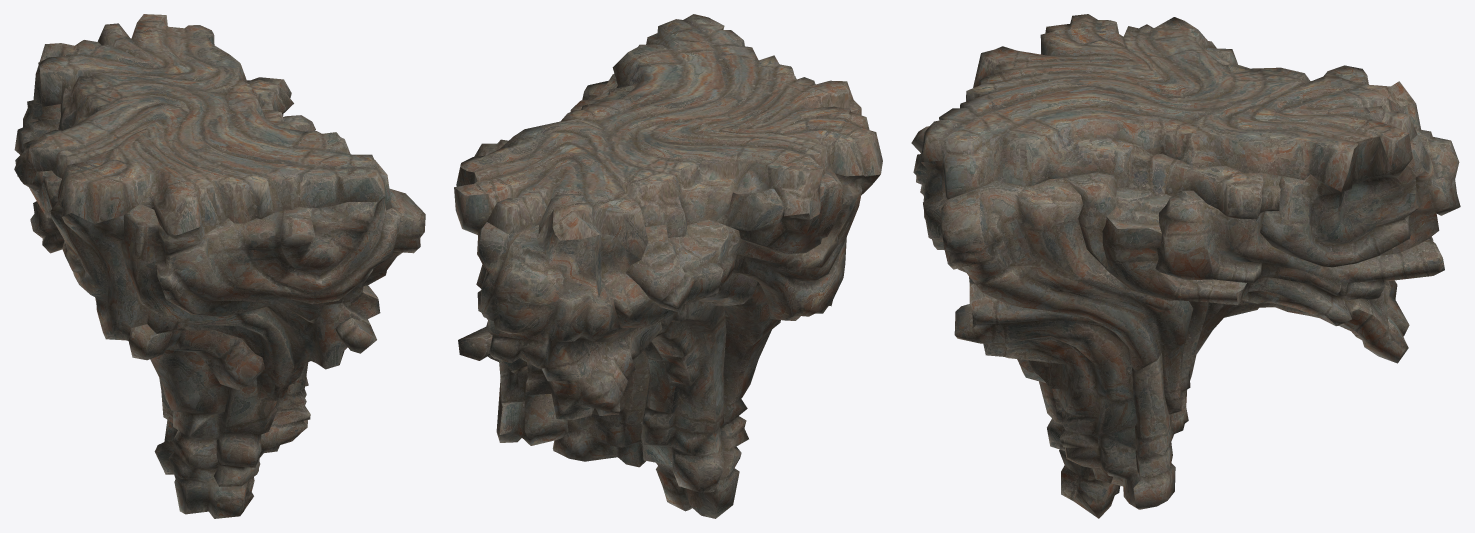
Rendered from bg_rad_kamen_rockfloor01_sm.obj.
3 renders of one model, left to right at view 1: azimuth 30°, elevation 25°; view 2: azimuth 150°, elevation 25°; view 3: azimuth 270°, elevation 25°, orthographic. The views are drawn at different scales.
Parts seen in each view (by area): view 1: bg_rad_kamen_rockfloor01_sm_1, bg_rad_kamen_rockfloor01_sm_0; view 2: bg_rad_kamen_rockfloor01_sm_1, bg_rad_kamen_rockfloor01_sm_0; view 3: bg_rad_kamen_rockfloor01_sm_0, bg_rad_kamen_rockfloor01_sm_1.
Boxes of the visible parts, box(x1,y1,x2,y2) form: bg_rad_kamen_rockfloor01_sm_1: box(14, 60, 400, 518); bg_rad_kamen_rockfloor01_sm_0: box(14, 14, 425, 452); bg_rad_kamen_rockfloor01_sm_1: box(476, 76, 880, 518); bg_rad_kamen_rockfloor01_sm_0: box(454, 14, 882, 442); bg_rad_kamen_rockfloor01_sm_0: box(921, 14, 1444, 506); bg_rad_kamen_rockfloor01_sm_1: box(911, 48, 1460, 518).
Bounding box in the file's own units: 3.28 × 3.96 × 4.77.
2 materials, 2 textured.
